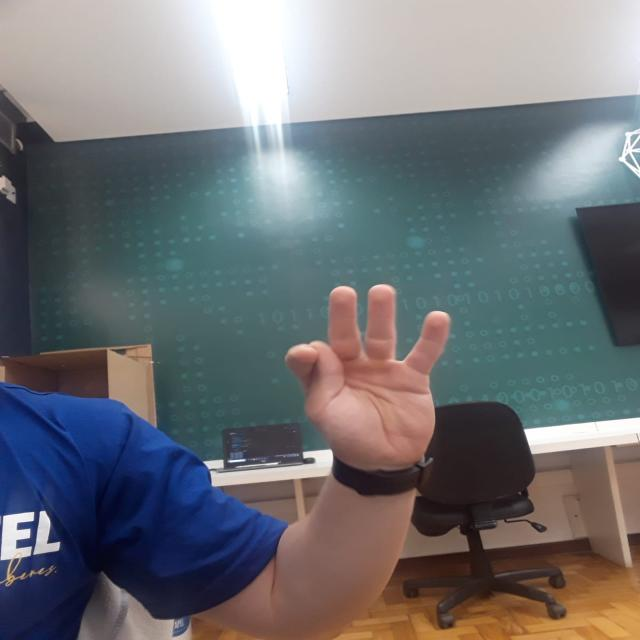T: (280, 278, 453, 458)
